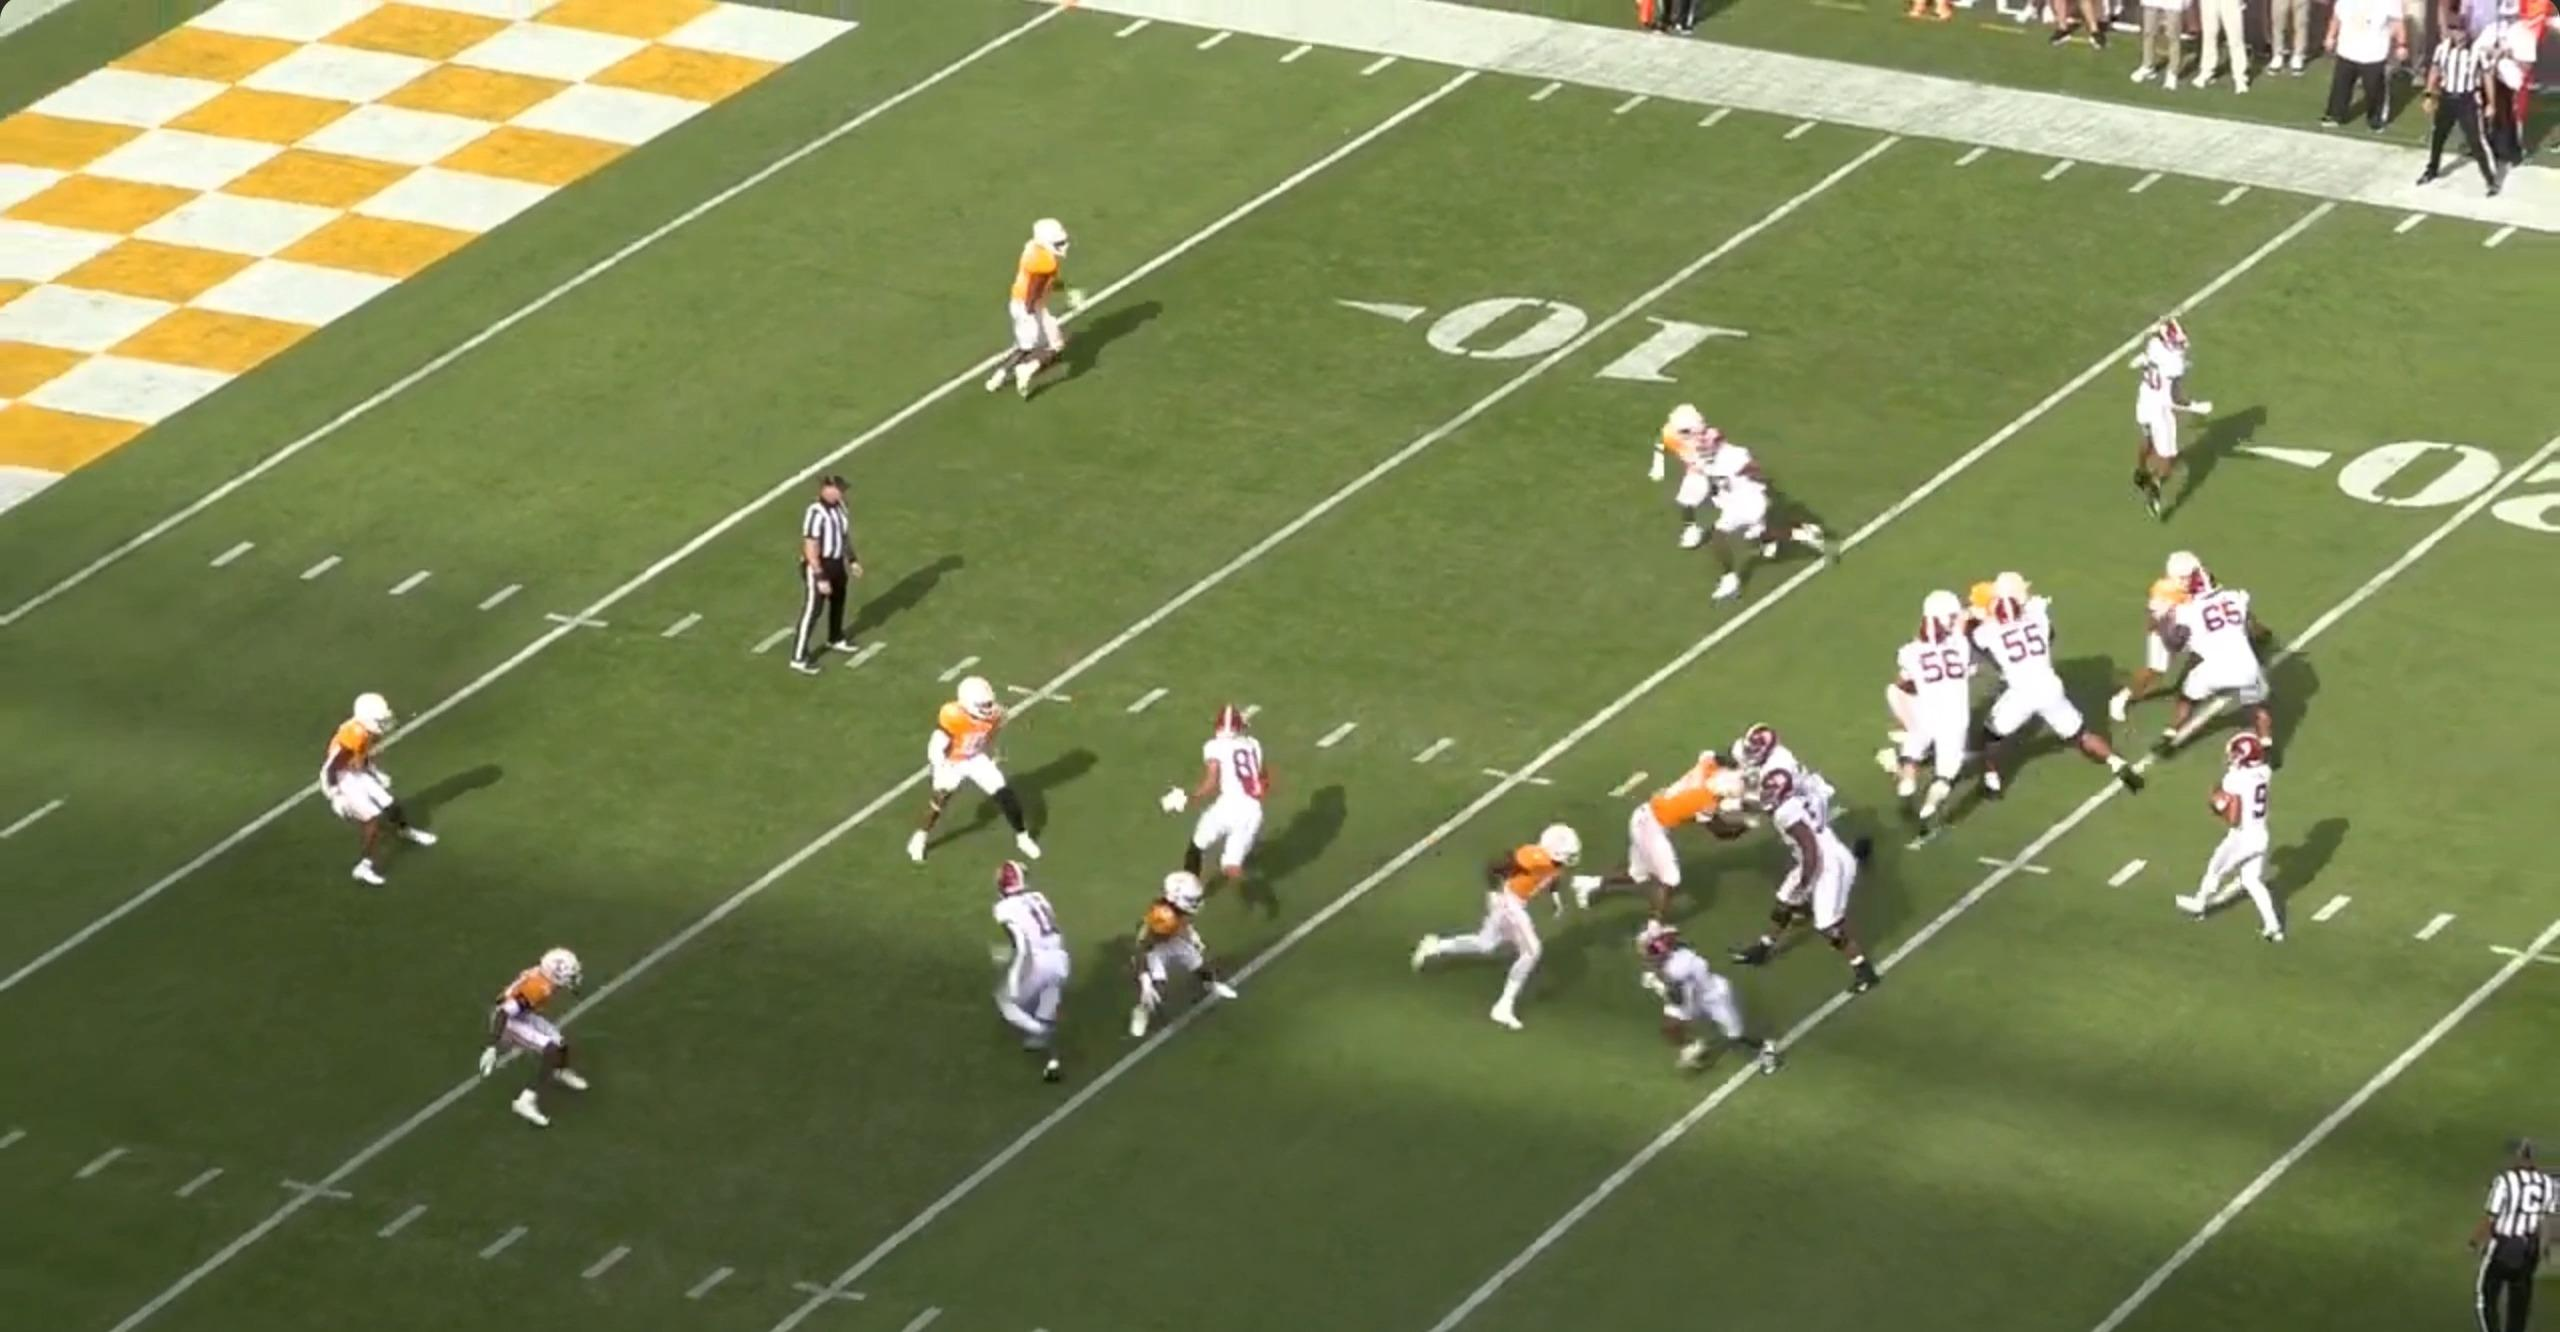player: (1404, 819, 1585, 1042), (1966, 593, 2155, 805), (1738, 770, 1878, 994), (2129, 570, 2278, 773), (1565, 754, 1739, 926), (1696, 424, 1845, 603), (2163, 726, 2284, 944), (920, 674, 1055, 869), (1170, 701, 1290, 920), (1886, 623, 2000, 848), (1623, 920, 1777, 1085), (324, 685, 444, 889), (987, 861, 1087, 1086), (1114, 862, 1235, 1042), (474, 947, 587, 1131), (2100, 550, 2218, 724), (2114, 318, 2210, 531), (989, 215, 1093, 406), (1734, 727, 1866, 835), (1636, 405, 1723, 559), (1965, 570, 2050, 651), (1908, 588, 1986, 632)
ref: (2461, 1125, 2557, 1327), (2415, 11, 2517, 199), (789, 475, 870, 684)
